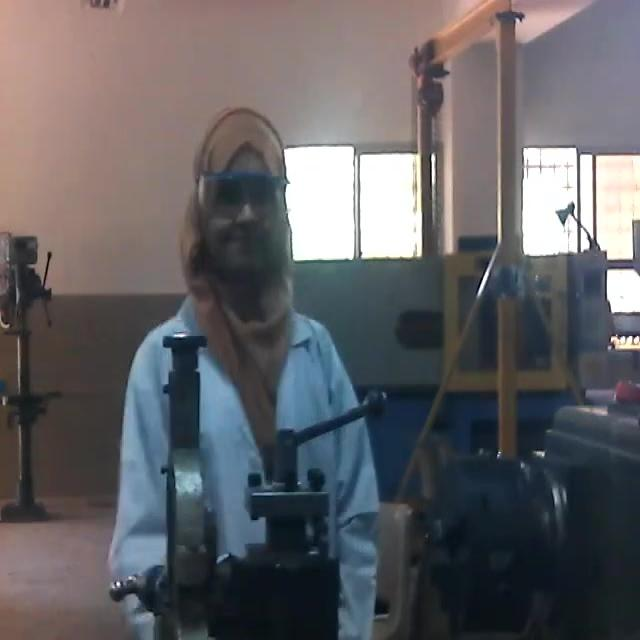googles: (196, 162, 284, 222)
labcoat: (107, 261, 383, 640)
